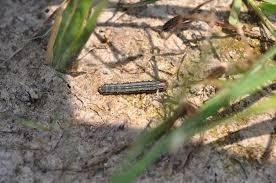fallarmy_worm: (93, 80, 174, 97)
